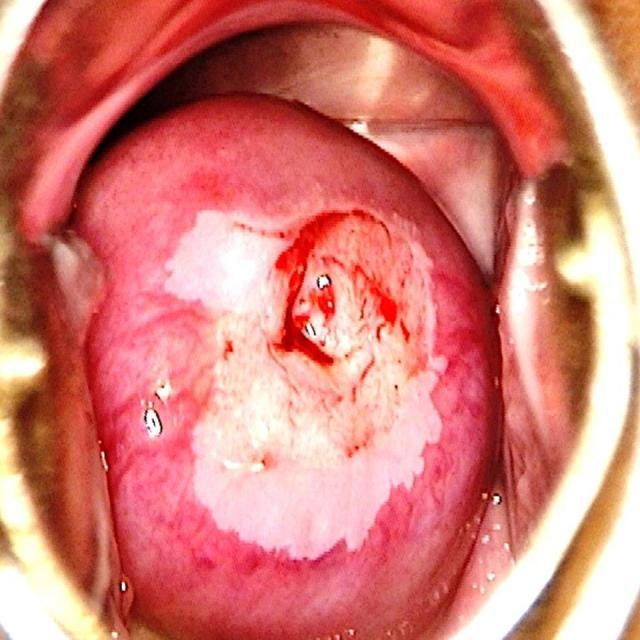cervical_lesion: (75, 23, 623, 638)
